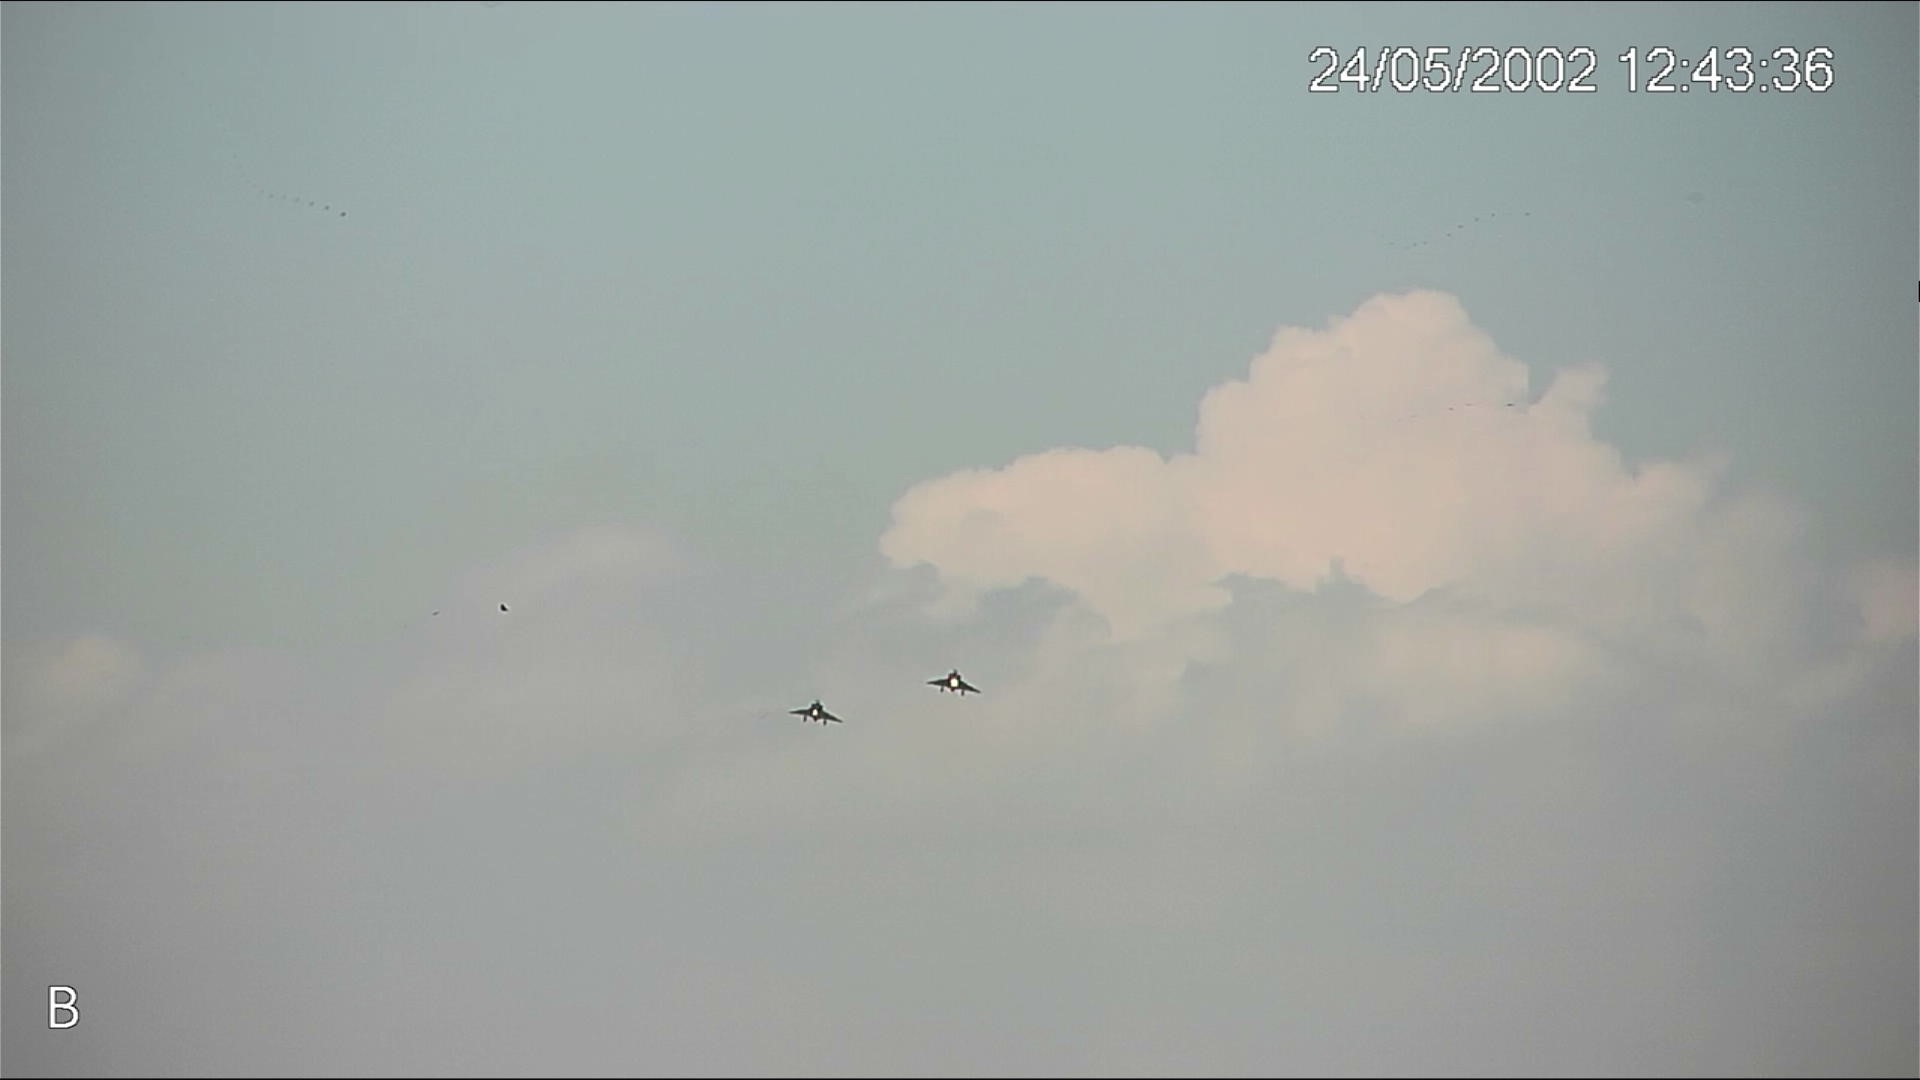SU_30: (924, 669, 980, 698), (789, 700, 845, 727)
